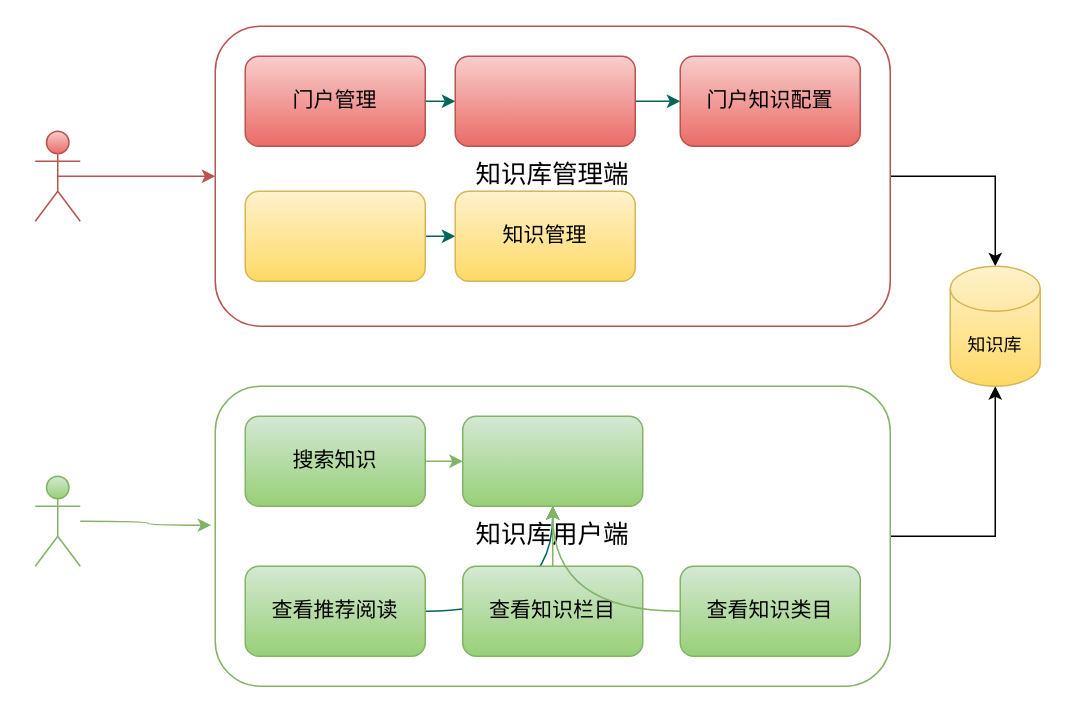
This 1067x713 diagram has some shape labels left out. Each missing label, with the centre of its shape:
查看知识: (552,460)
用户: (57,520)
知识类目管理: (334,235)
管理员: (57,175)
门户配置: (544,100)
